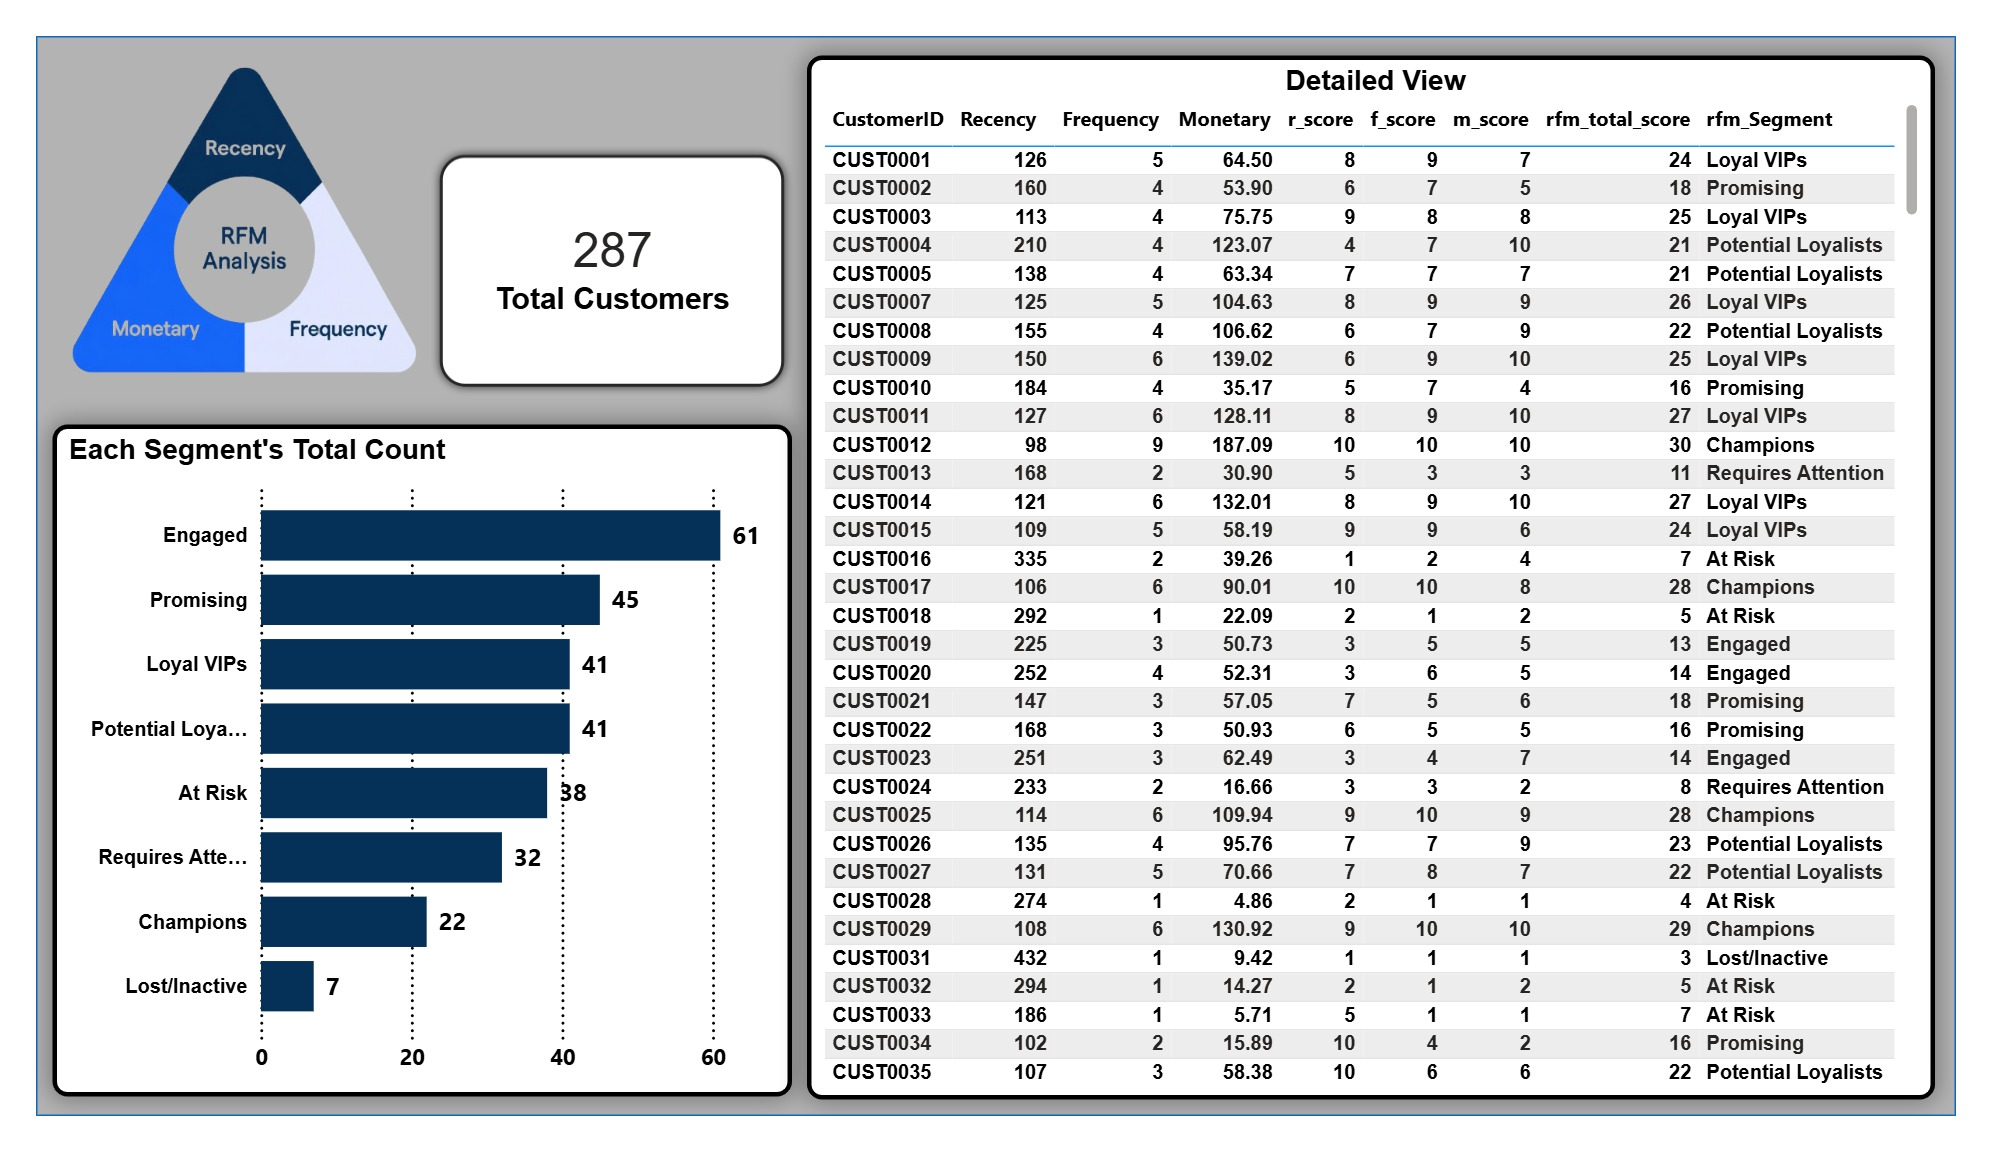

The page's visual inventory and layout, read from the dashboard file:
{"tool":"powerbi","page":{"name":"Page 1","canvas":[1280,720],"ordinal":0},"visuals":[{"type":"shape","box":[0,0,1280,720],"z":0},{"type":"shape","box":[262.9,72.9,242,167.1],"z":0,"group":"g2"},{"type":"image","box":[11.4,0,258.6,258.6],"z":1000},{"type":"cardVisual","fields":{"Data":["Cleaned_RFM_Analysis.Total Customers"]},"box":[277,92.2,215.1,130.2],"z":1000,"group":"g2"},{"type":"group","id":"g1","title":"Group 1","box":[262.9,72.9,241.4,167.1],"z":2000},{"type":"clusteredBarChart","title":"Each Segment''s Total Count","fields":{"Category":["Cleaned_RFM_Analysis.rfm_Segment"],"Y":["CountNonNull(Cleaned_RFM_Analysis.CustomerID)"]},"box":[11.4,258.6,492.9,448.6],"z":8000},{"type":"tableEx","title":"Detailed View","fields":{"Values":["Cleaned_RFM_Analysis.CustomerID","Sum(Cleaned_RFM_Analysis.recency)","Sum(Cleaned_RFM_Analysis.frequency)","Sum(Cleaned_RFM_Analysis.monetary)","Sum(Cleaned_RFM_Analysis.r_score)","Sum(Cleaned_RFM_Analysis.f_score)","Sum(Cleaned_RFM_Analysis.m_score)","Sum(Cleaned_RFM_Analysis.rfm_total_score)","Cleaned_RFM_Analysis.rfm_Segment"]},"box":[514.3,12.9,751.4,695.7],"z":10004},{"type":"group","id":"g2","title":"Group 2","box":[262.9,72.9,241.4,167.1],"z":10005,"group":"g1"}]}

Visuals, with their boxes in screenshot pixels (x1, y1, x2, y2), scaled from the page's 1280x720 canvas onto the 1992x1152 screenshot:
shape: x1=0 y1=0 x2=1991 y2=1151
shape: x1=409 y1=117 x2=786 y2=384
image: x1=18 y1=0 x2=420 y2=414
cardVisual - Cleaned_RFM_Analysis.Total Customers: x1=431 y1=148 x2=766 y2=356
"Group 1" group: x1=409 y1=117 x2=785 y2=384
"Each Segment''s Total Count" clusteredBarChart: x1=18 y1=414 x2=785 y2=1132
"Detailed View" tableEx: x1=800 y1=21 x2=1970 y2=1134
"Group 2" group: x1=409 y1=117 x2=785 y2=384
